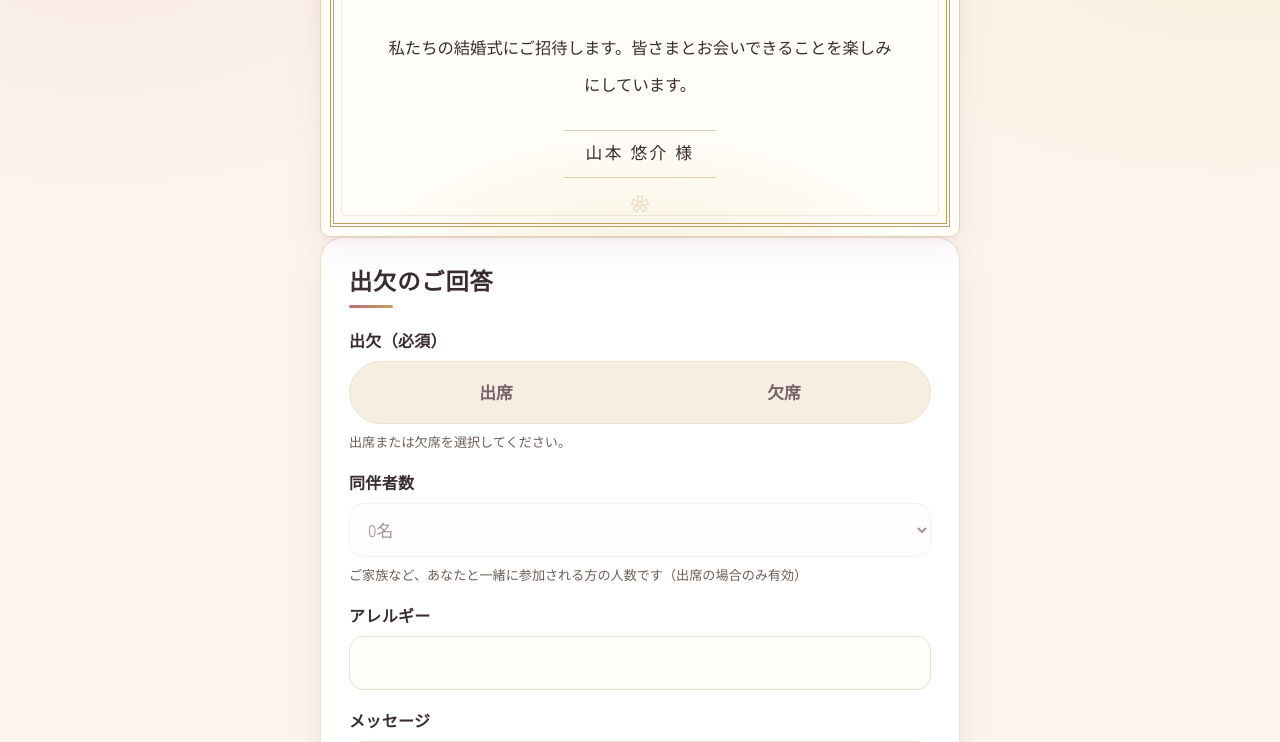
Test case: RSVP public page (local mode) › opens the invitation for a valid token and requires an explicit choice
(page scrolled)
Click the button "出席": (496, 393) [354,366,638,419]
(page scrolled)
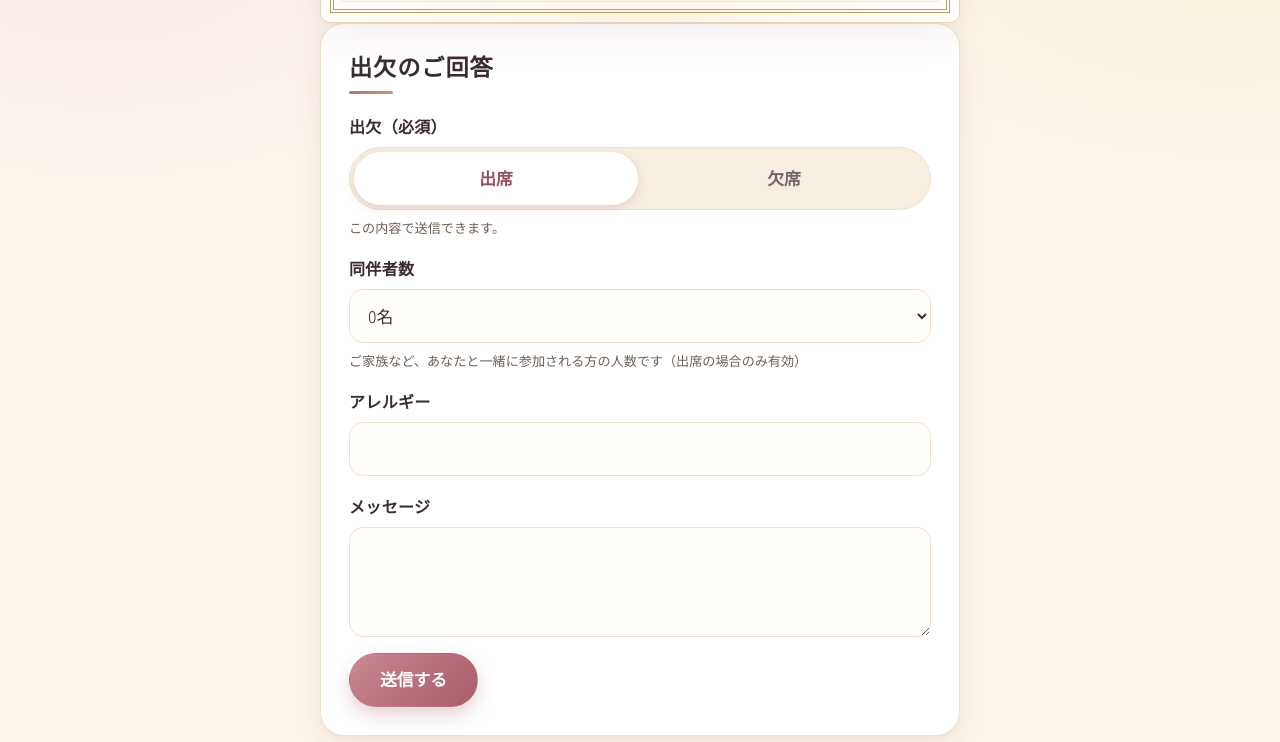
Now the button "送信する" is enabled, box [349,653,478,707]
